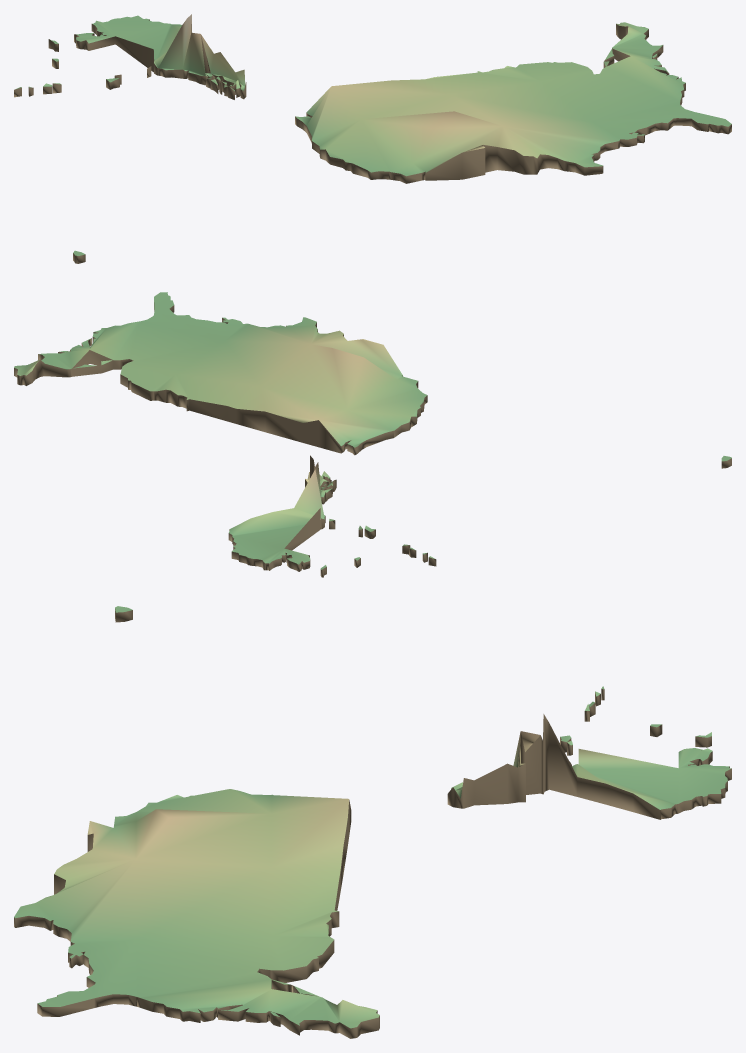
File: USA.glb
3 views of the same model, one above another, from view 1: azimuth 30°, elevation 25°; view 2: azimuth 150°, elevation 25°; view 3: azimuth 270°, elevation 25° (orthographic). The views are drawn at different scales.
Visible parts, largest first — view 1: USA; view 2: USA; view 3: USA.
Boxes of the visible parts, <box> form: USA: <box>14,14,731,263</box>; USA: <box>14,292,731,577</box>; USA: <box>14,606,731,1038</box>.
Bounding box in the file's own units: 1.67 × 0.1503 × 1.2.
